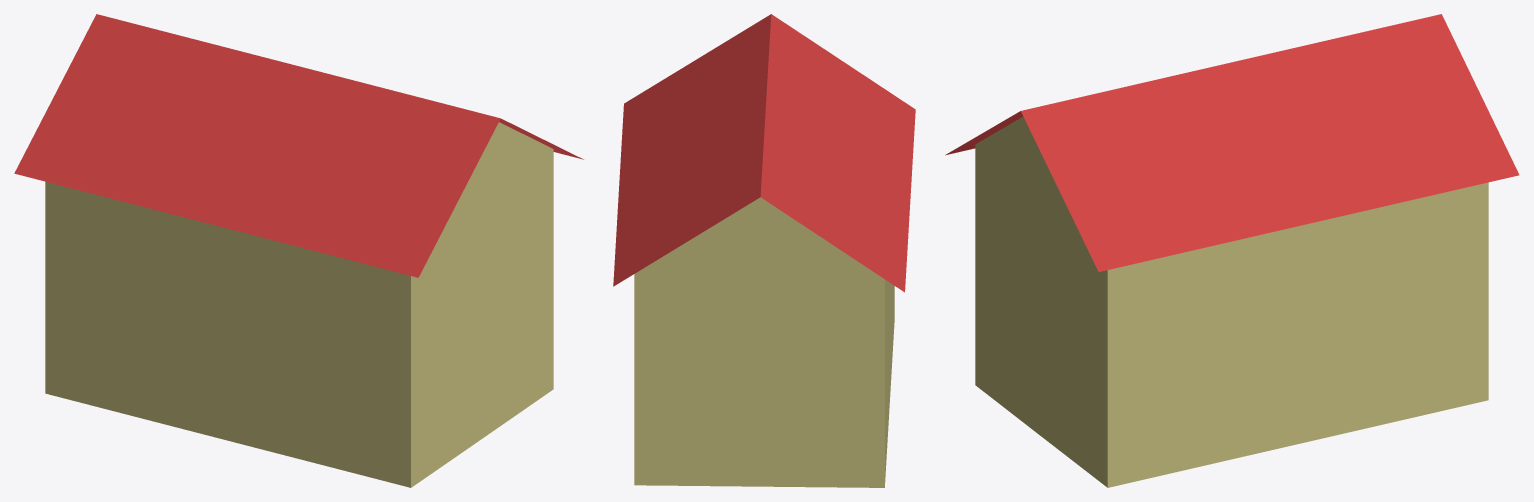
The picture shows the model from 3 angles, left to right: view 1: azimuth 30°, elevation 25°; view 2: azimuth 150°, elevation 25°; view 3: azimuth 270°, elevation 25°; orthographic projection. The views are drawn at different scales.
Bounding box in the file's own units: 16.82 × 18.88 × 11.94.
